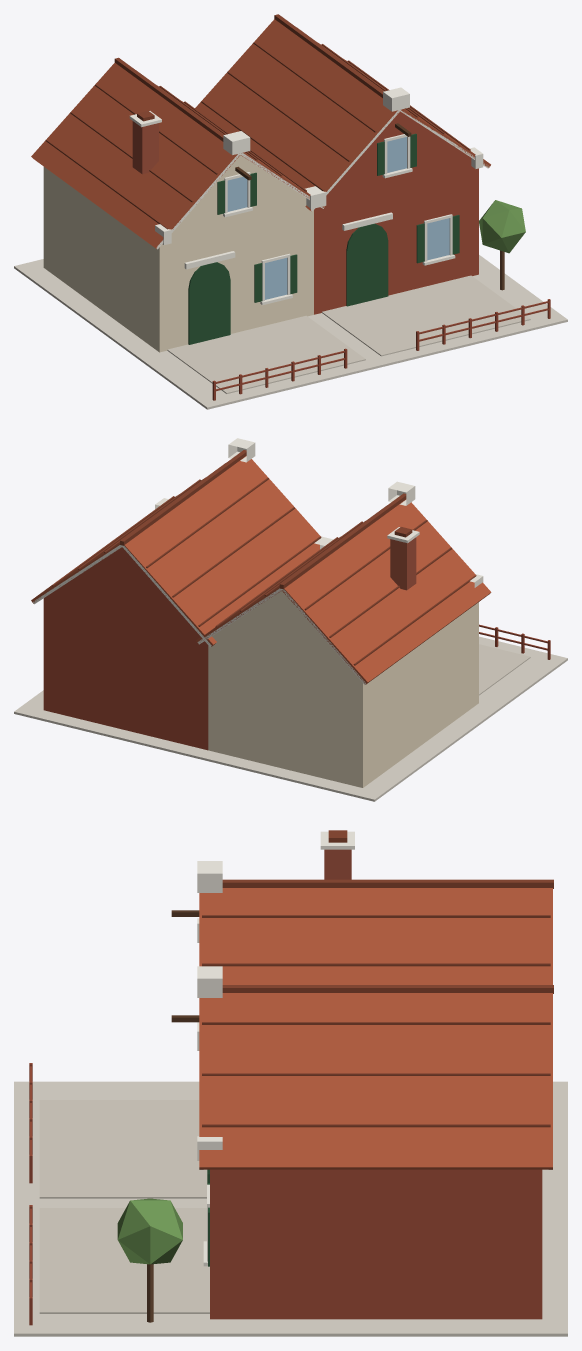
File: Sanayi_garaj_atolye_Hafif.fbx
The picture shows the model from 3 angles, top to bottom: view 1: azimuth 30°, elevation 25°; view 2: azimuth 150°, elevation 25°; view 3: azimuth 270°, elevation 25°; orthographic projection. The views are drawn at different scales.
Parts seen in each view (by area): view 1: Sanayi_garaj_atolye_Hafif; view 2: Sanayi_garaj_atolye_Hafif; view 3: Sanayi_garaj_atolye_Hafif.
Part boxes in pixels (left/top/right/bottom): Sanayi_garaj_atolye_Hafif: left=14, top=14, right=567, bottom=409; Sanayi_garaj_atolye_Hafif: left=14, top=438, right=567, bottom=801; Sanayi_garaj_atolye_Hafif: left=14, top=830, right=567, bottom=1336.
Bounding box in the file's own units: 14.07 × 7.57 × 13.
